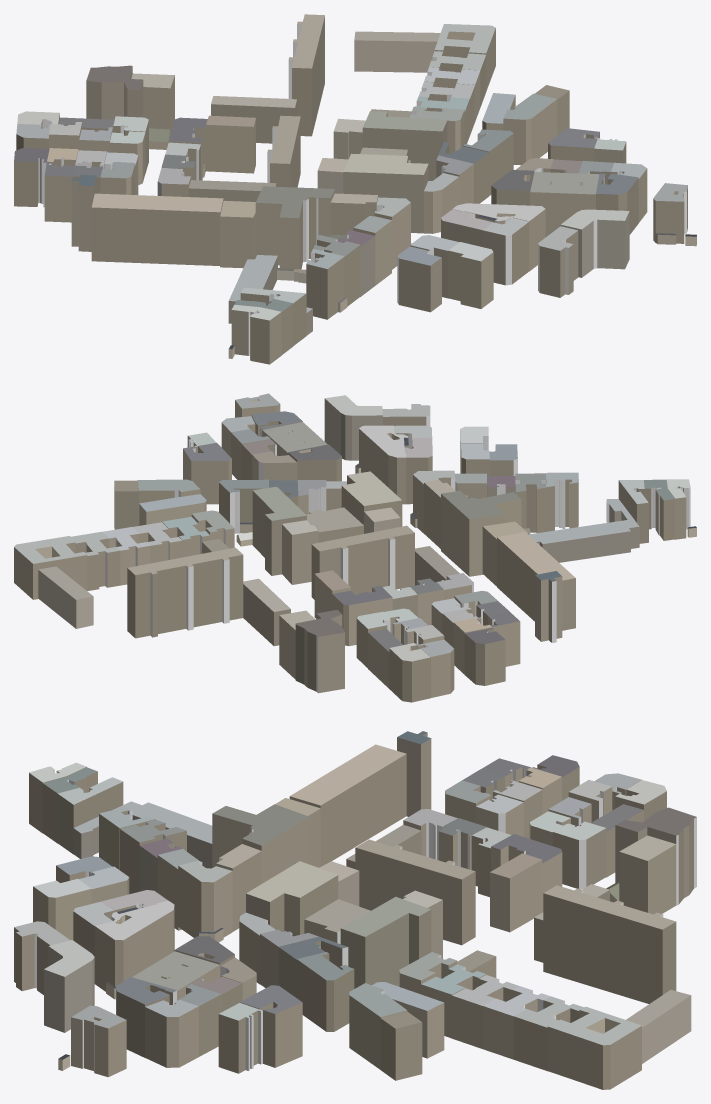
3 renders of one model, top to bottom at view 1: azimuth 30°, elevation 25°; view 2: azimuth 150°, elevation 25°; view 3: azimuth 270°, elevation 25°, orthographic. The views are drawn at different scales.
Parts seen in each view (by area): view 1: tuile; view 2: tuile; view 3: tuile.
Part boxes in pixels (<box>): tuile: <box>14,14,696,364</box>; tuile: <box>14,393,696,702</box>; tuile: <box>14,731,696,1089</box>.
Bounding box in the file's own units: 267 × 35.65 × 271.
